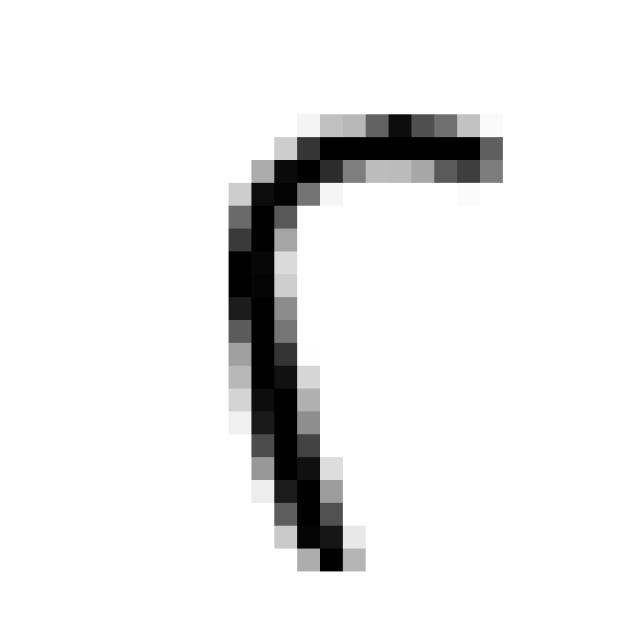2 -two-: (199, 87, 525, 598)
